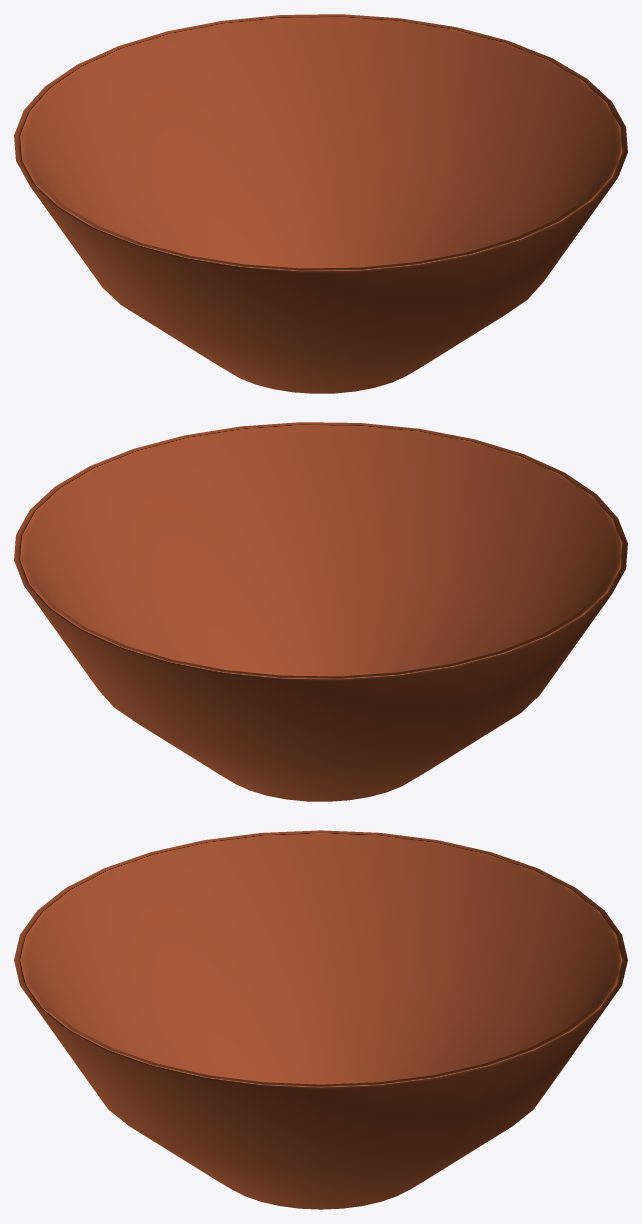
File: SAB-BWL-std.glb
The picture shows the model from 3 angles, top to bottom: view 1: azimuth 30°, elevation 25°; view 2: azimuth 150°, elevation 25°; view 3: azimuth 270°, elevation 25°; orthographic projection.
Visible parts, largest first — view 1: SAB-BWL-std; view 2: SAB-BWL-std; view 3: SAB-BWL-std.
Part boxes in pixels (x1=…): SAB-BWL-std: x1=14, y1=14, x2=627, y2=393; SAB-BWL-std: x1=14, y1=422, x2=627, y2=801; SAB-BWL-std: x1=14, y1=830, x2=627, y2=1209.
Size of the model in its own units: 0.3 by 0.11 by 0.3.
